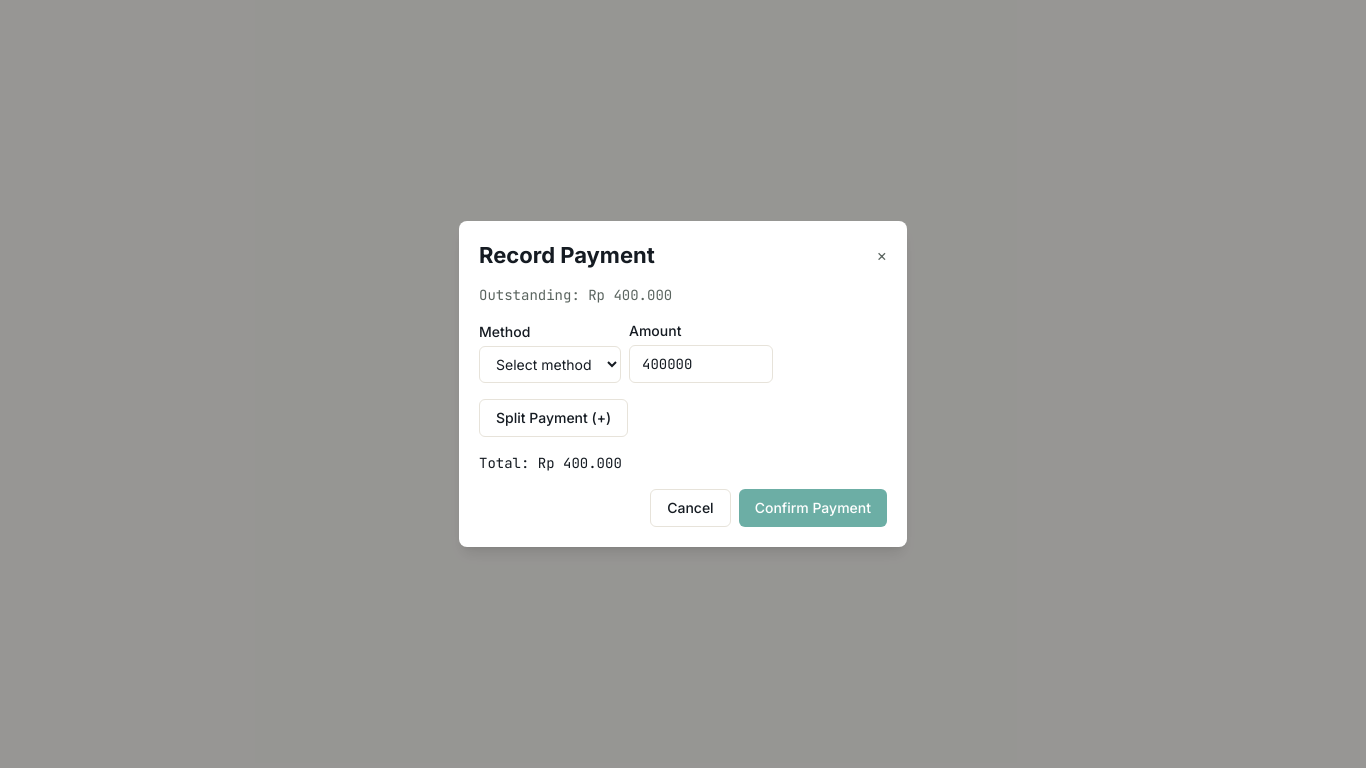
Test case: CreatePaymentModal › disables Confirm when total exceeds the outstanding balance
This screenshot has width=1366, height=768.
Select "Cash" in the dropdown labelled "Method" at point(550, 365), box [479, 346, 621, 383]
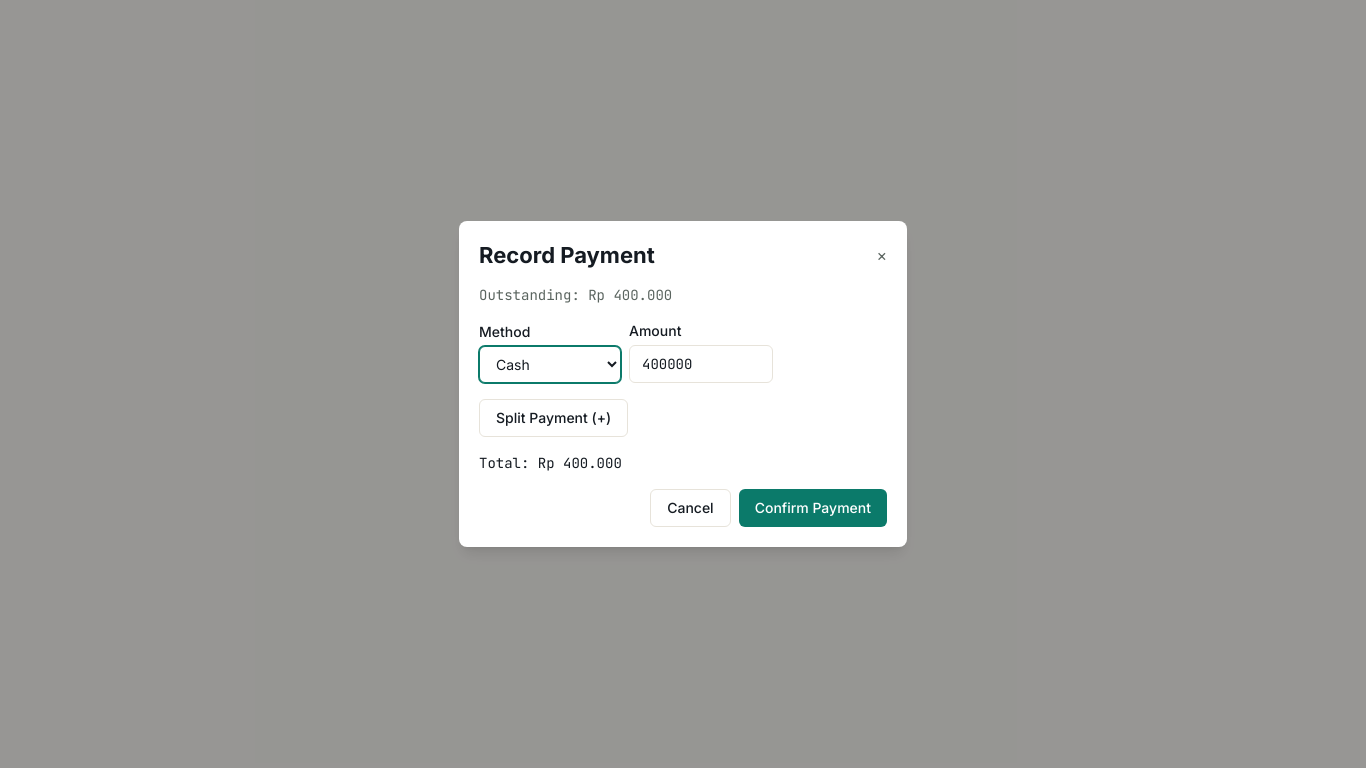
Replace the text in the number field labelled "Amount" with "500000" at point(701, 364), box [629, 345, 773, 383]
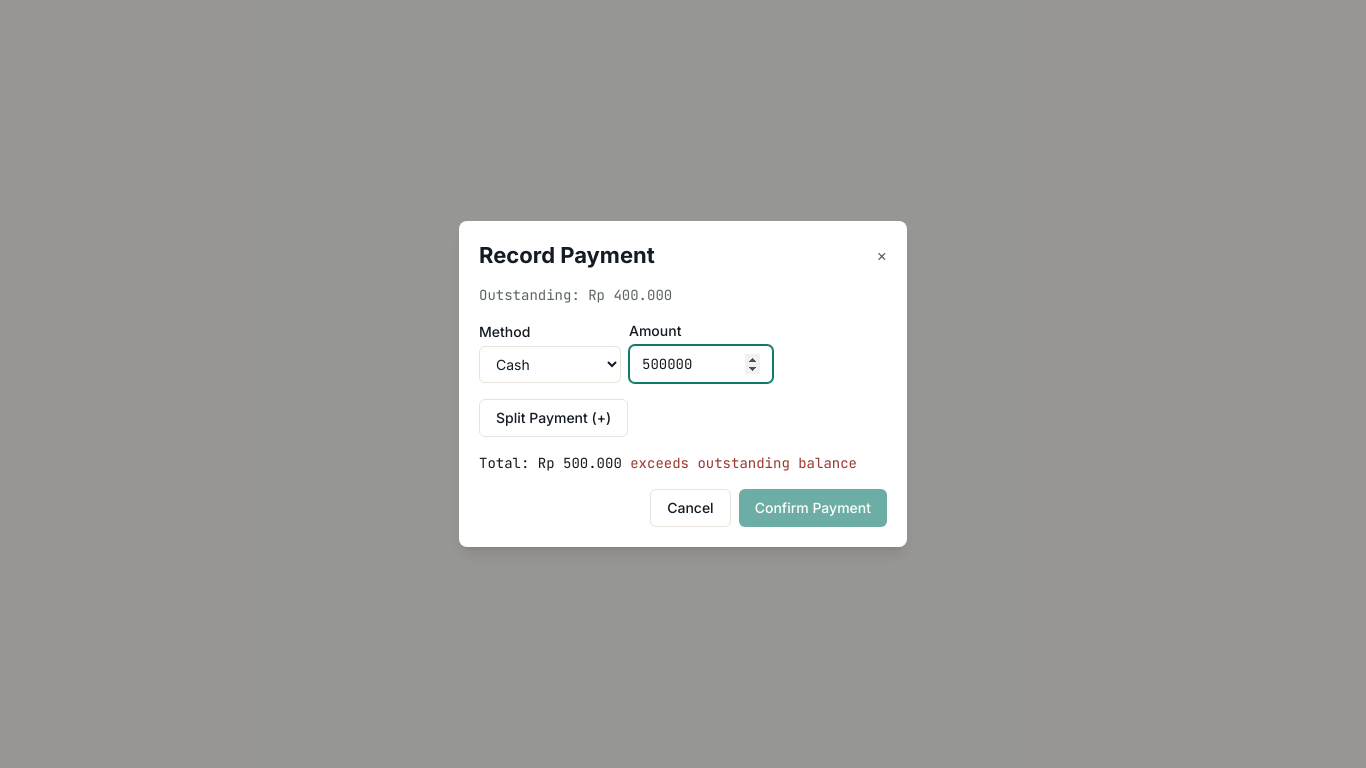
Check: the button "Confirm Payment" is disabled, box [739, 489, 887, 527]
Check: the text "exceeds outstanding balance" is shown, box [630, 454, 857, 472]
